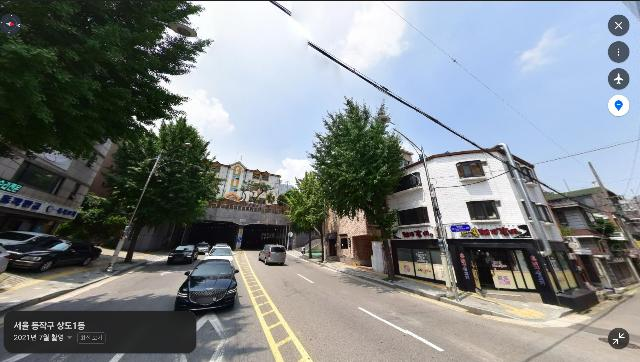other: (0, 0, 214, 170), (301, 95, 409, 284), (89, 115, 225, 264), (284, 178, 331, 263), (576, 213, 615, 277)
